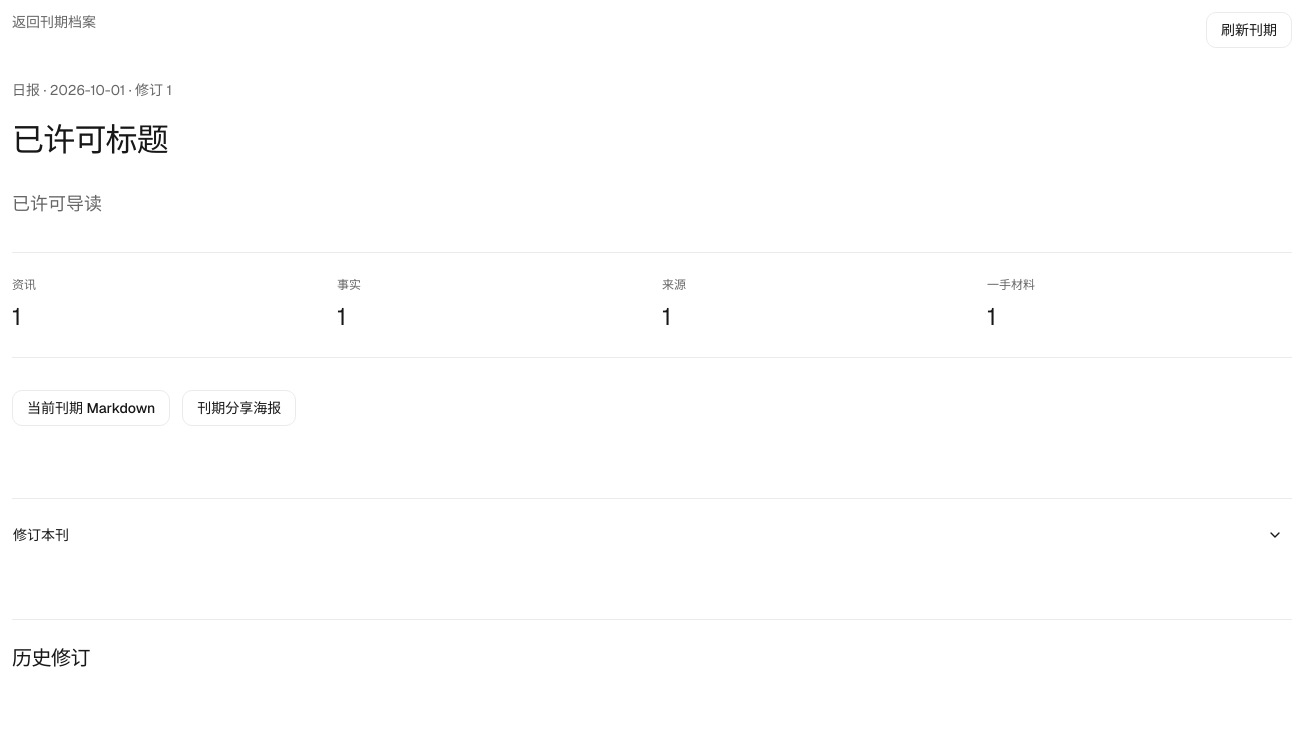
Test case: Edition reading › replaces a previously readable edition with the 401 state
Click the button "刷新刊期" at x=1249, y=30, box [1206,12,1292,48]
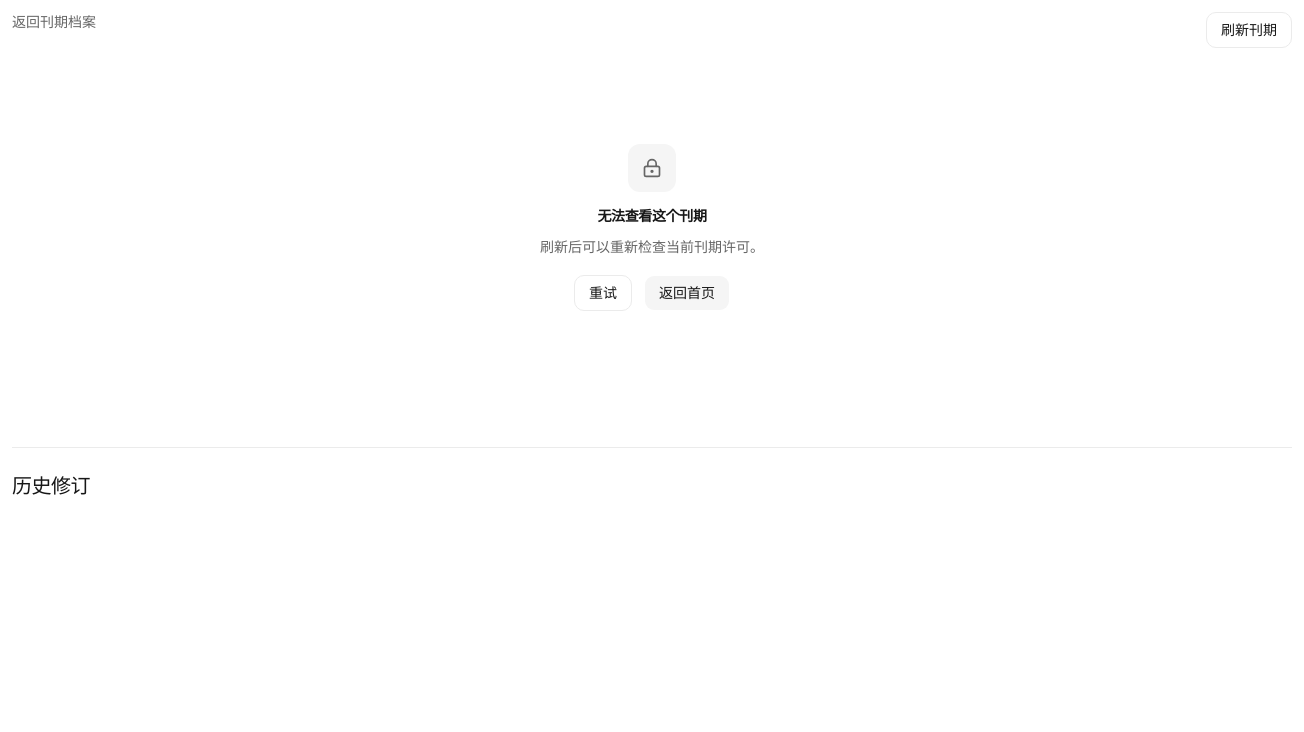
Expected: the heading "无法查看这个刊期" is shown, [597,204,707,228]
Expected: the heading "已许可标题" is gone
Expected: the text "已许可导读" is not shown
